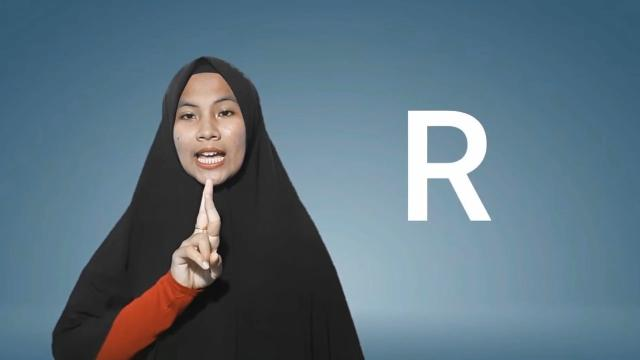R: (170, 177, 236, 289)
